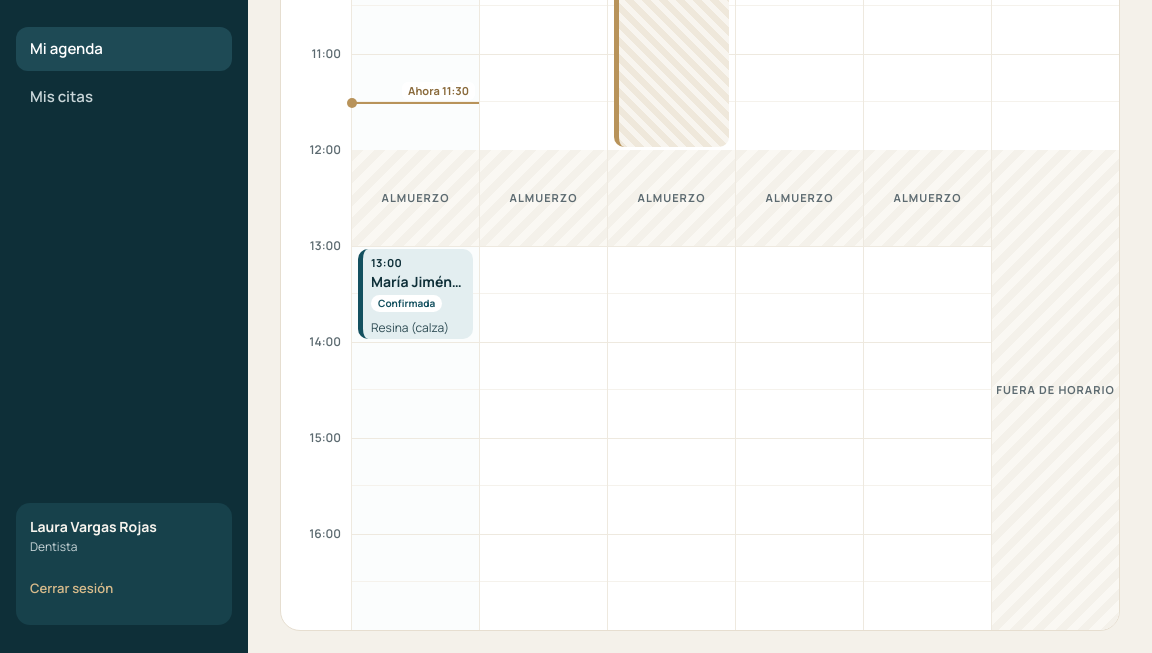
Test: Agenda semanal › cita futura no ofrece marcar asistencia y lo explica
The image size is (1152, 653).
(page scrolled)
Click the button "13:00 María Jiménez Confirmada Resina (calza)".
click(416, 294)  # box [358, 249, 473, 339]
(page scrolled)
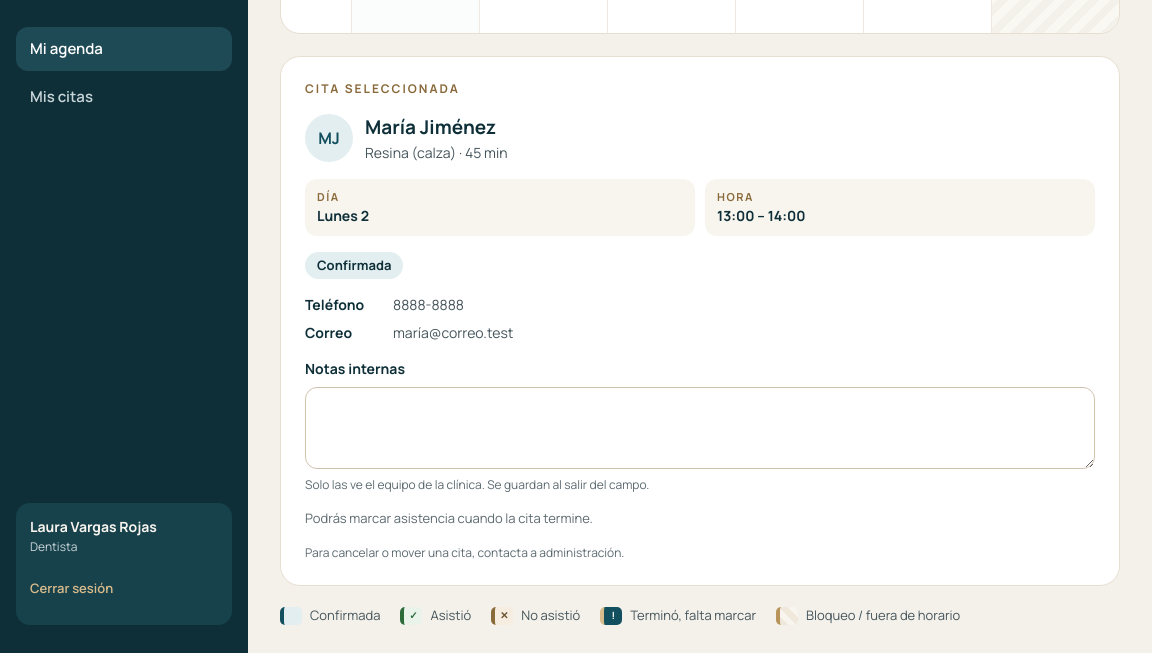
Now the text "Podrás marcar asistencia cuando la cita termine." is shown, box [305, 509, 593, 527]
